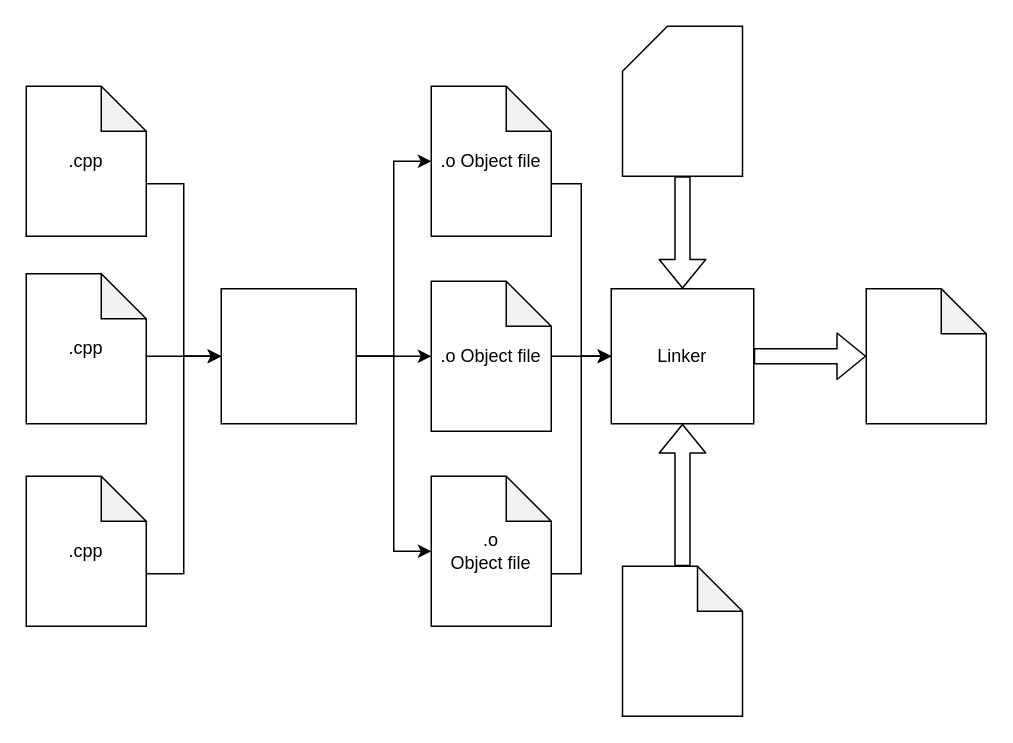
This 1013x743 diagram has some shape labels left out. The box of each missing label's shape, as (x1, y1, x2, y2) in pixels:
.a static libraries: (621, 565, 742, 716)
.so shared libraries: (621, 25, 742, 176)
Compiler, Code generator: (220, 287, 356, 424)
Executable ELF: (865, 287, 986, 424)
